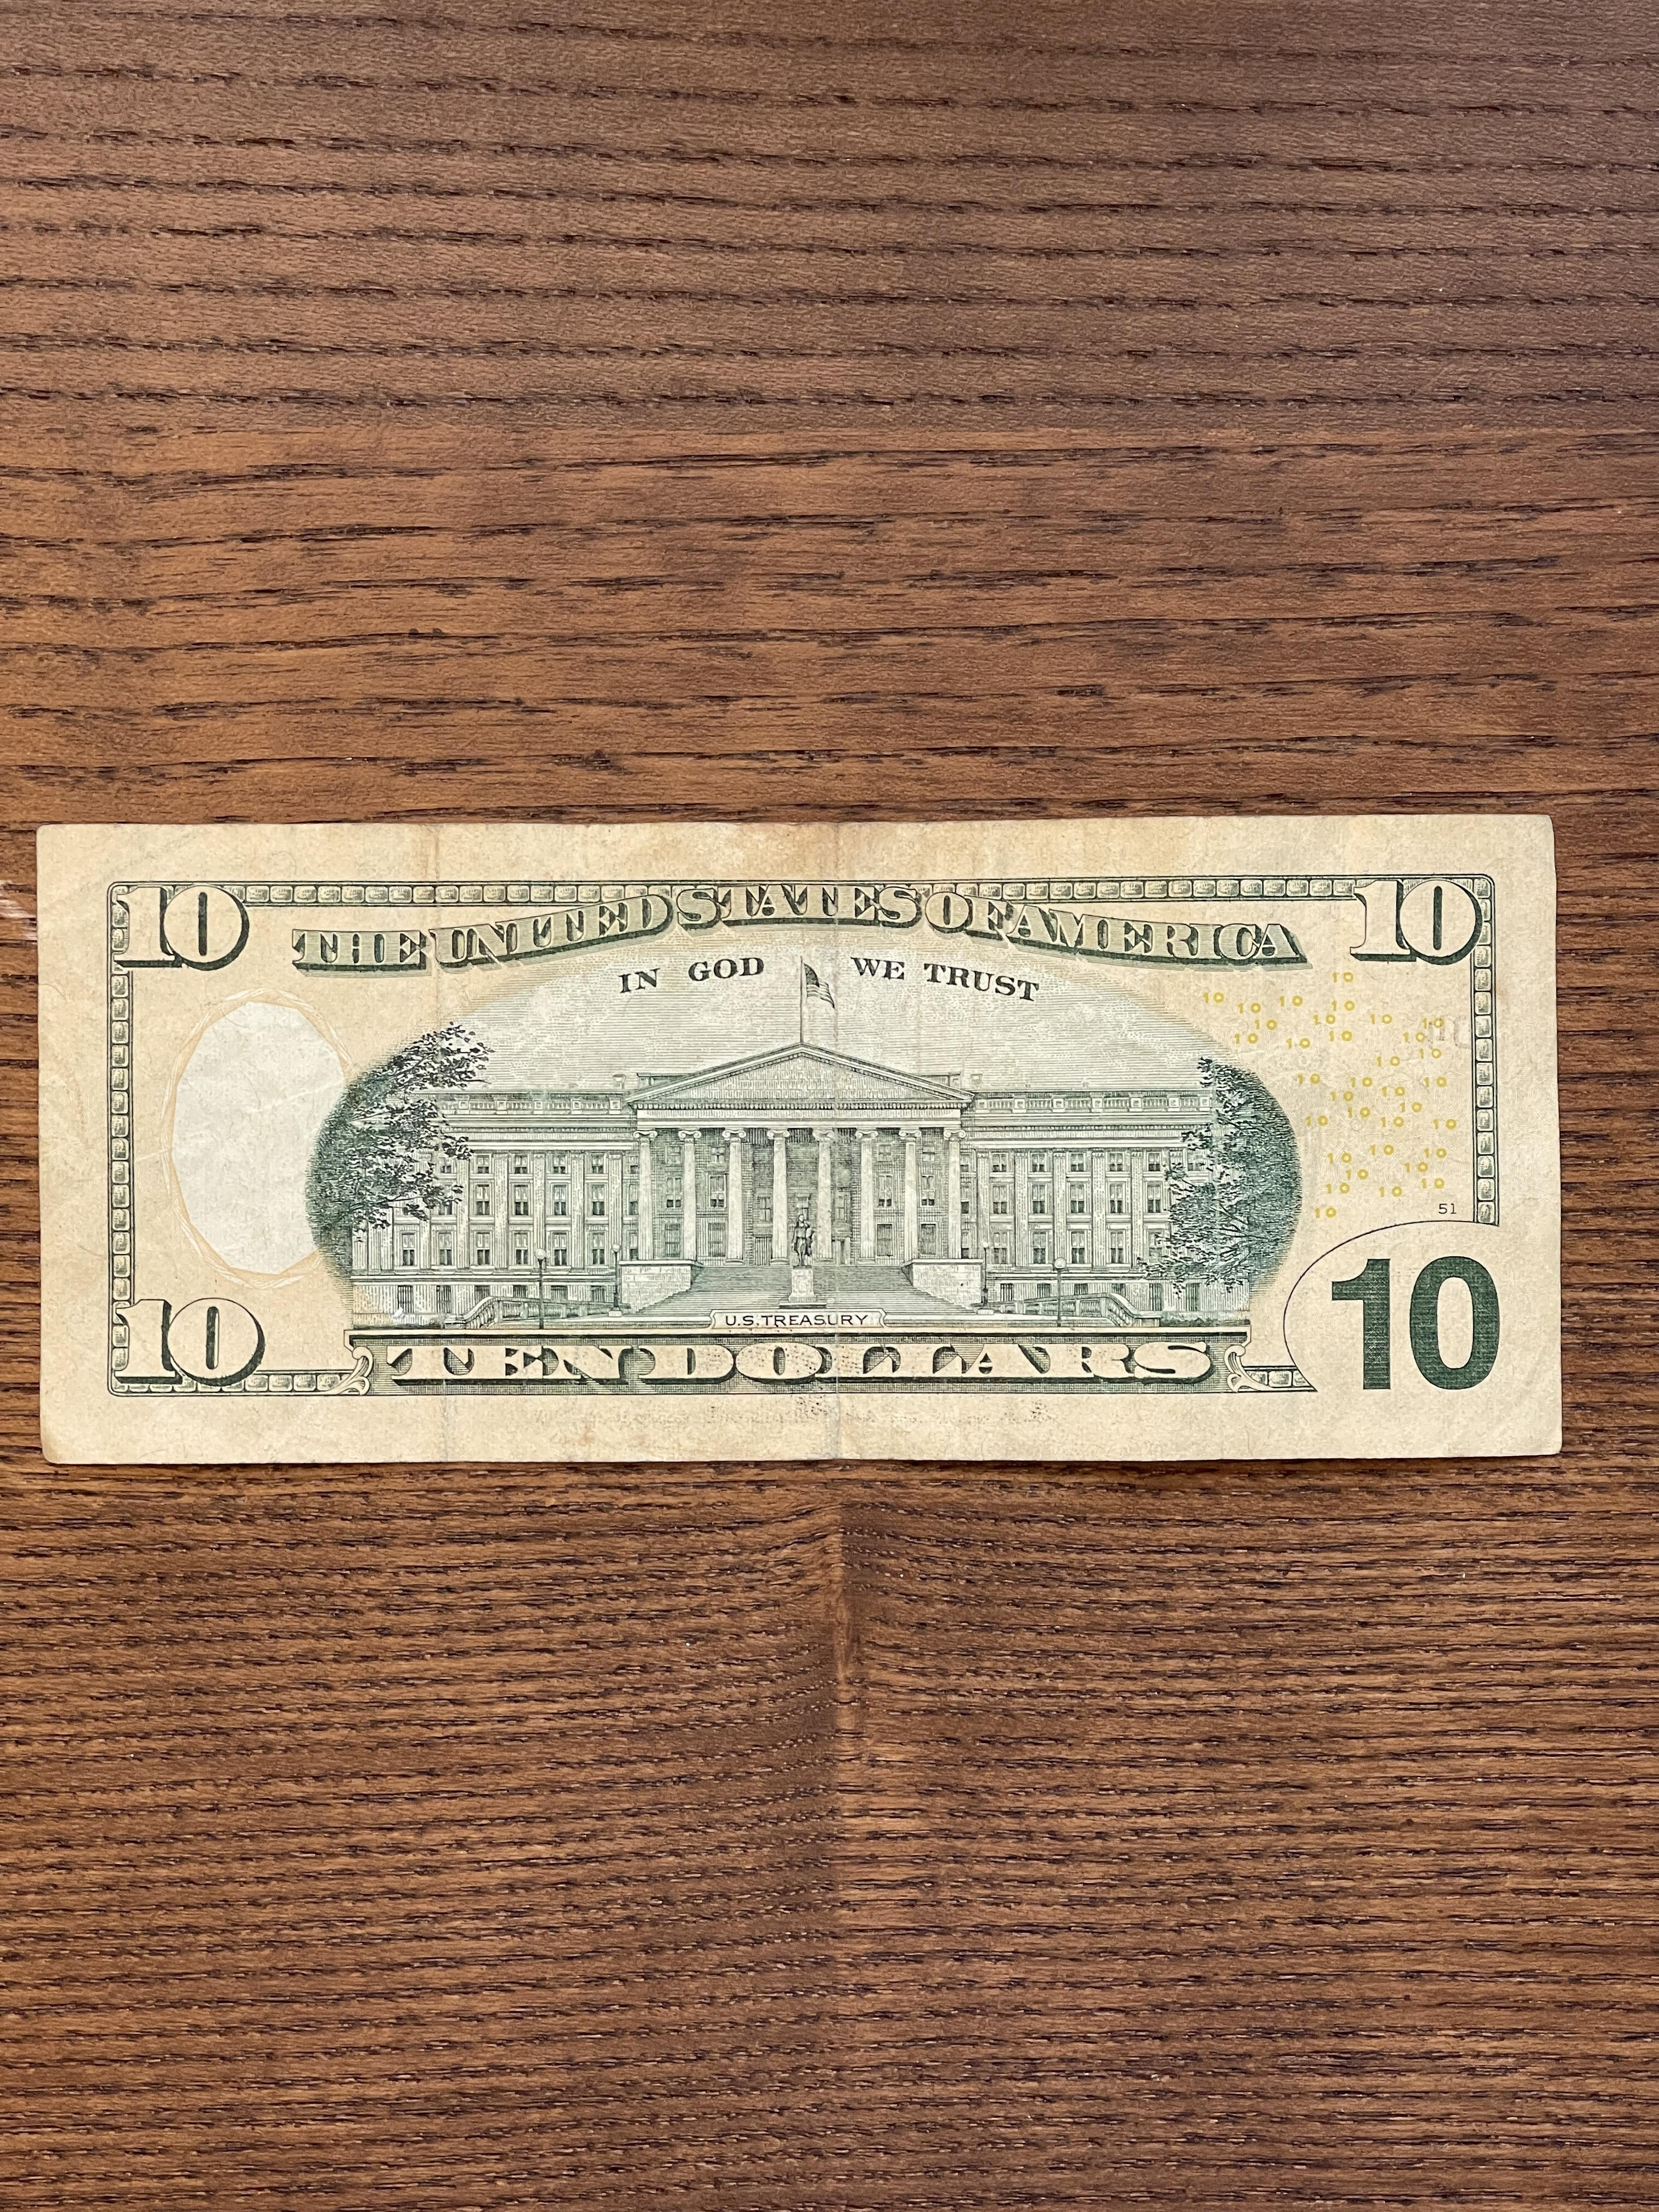TenBill: (26, 808, 1568, 1470)
